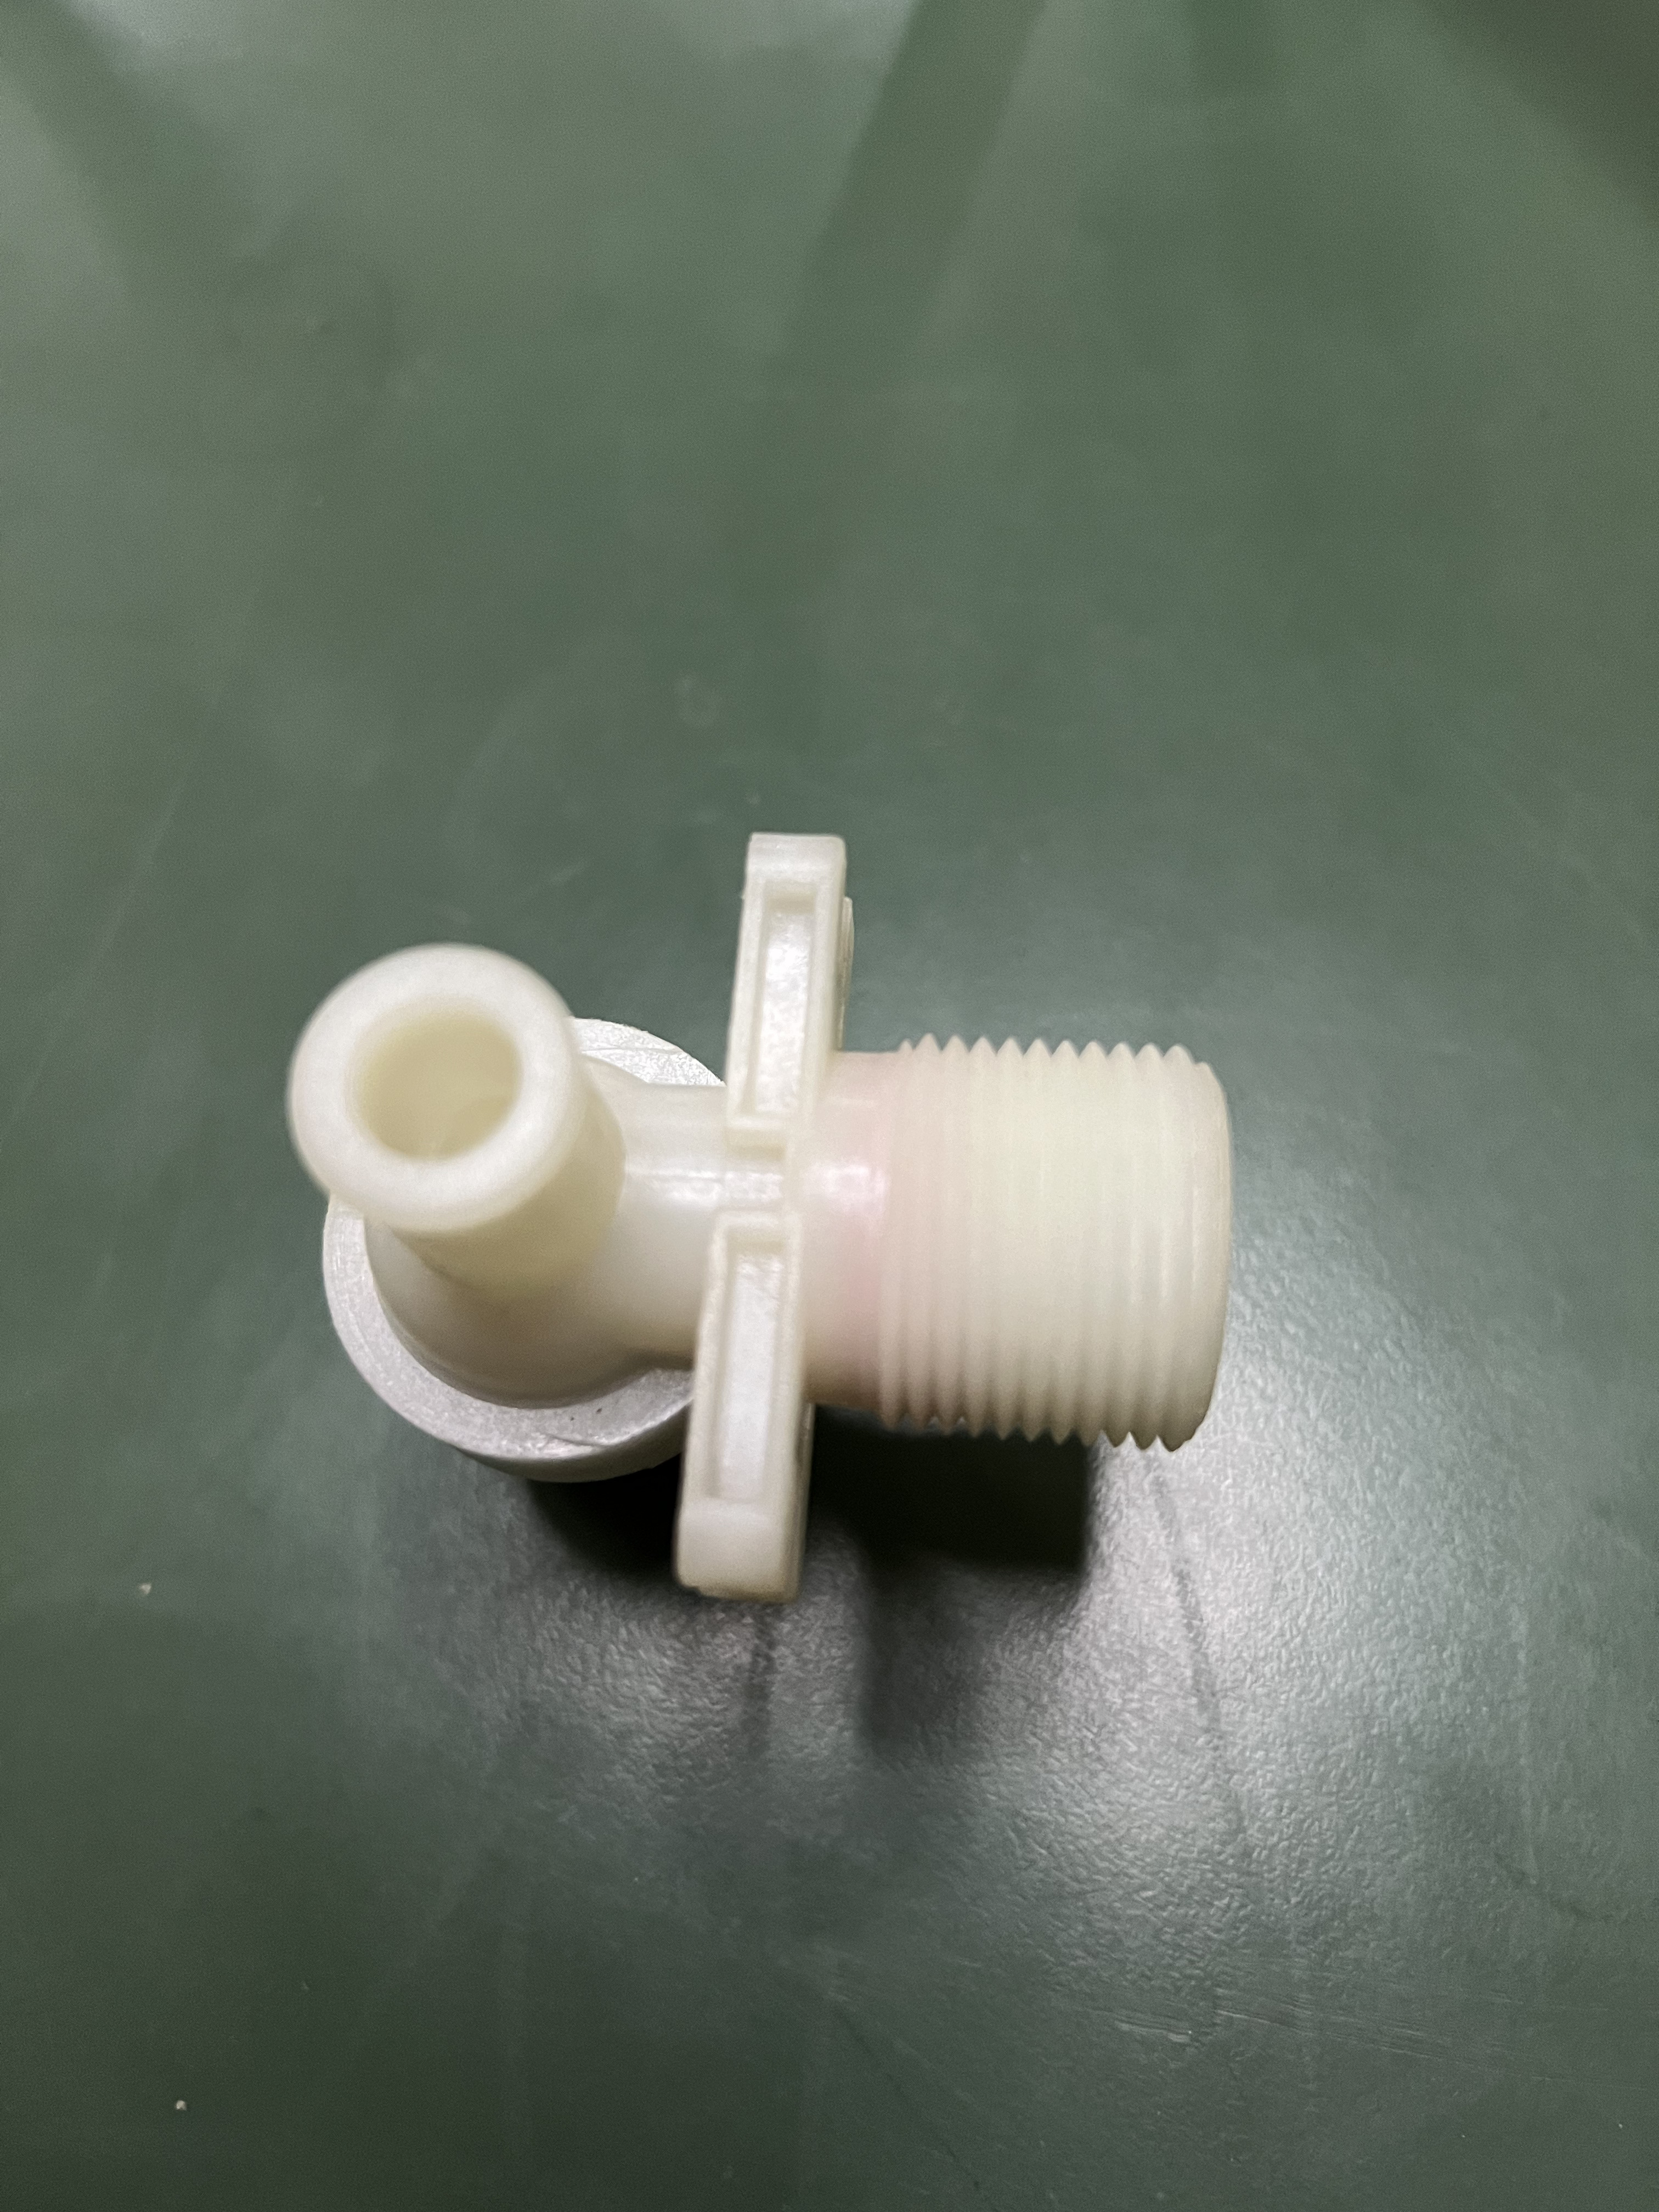godrej_inlet_valves: (209, 827, 1323, 1625)
